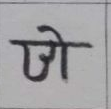o_matra: (46, 25, 73, 79)
